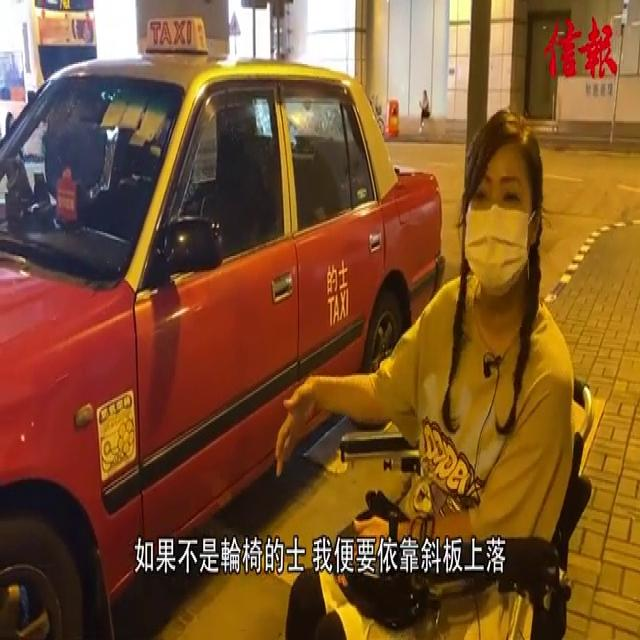wheelchairs: (332, 350, 597, 640)
